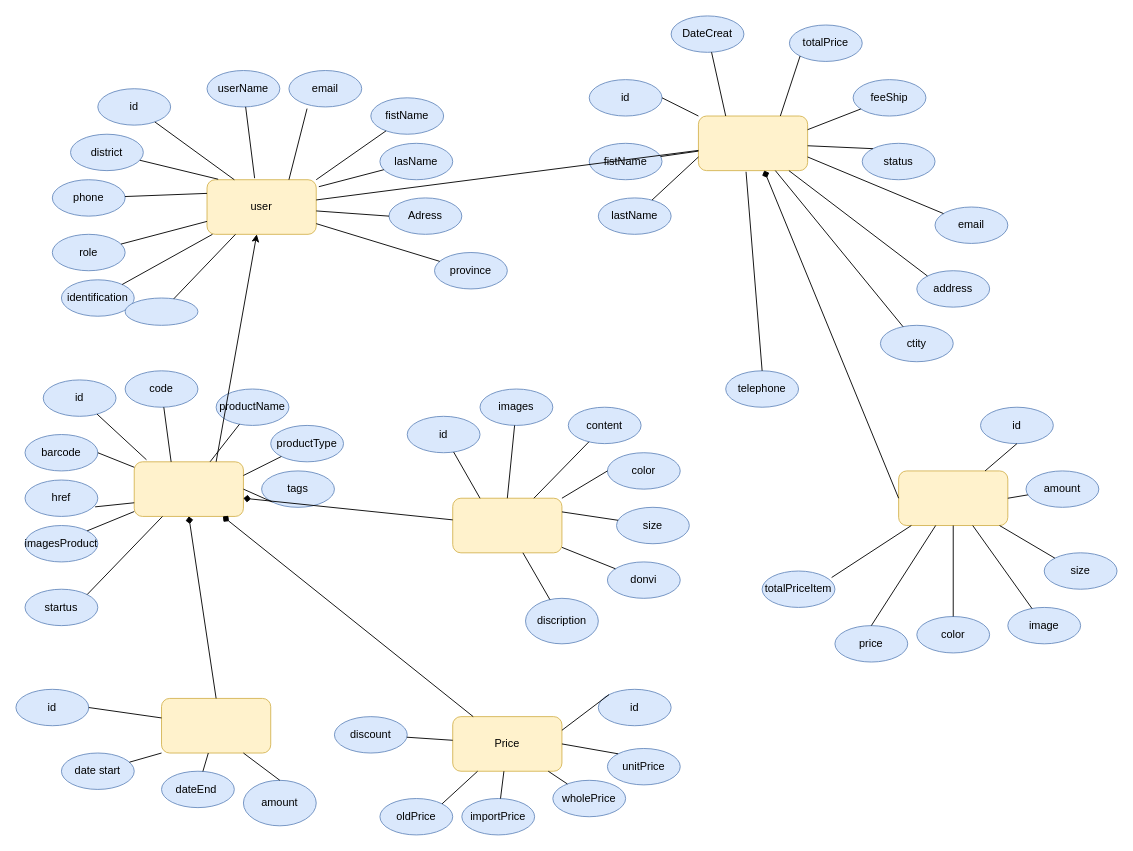
The diagram is 1133 pixels wide and 851 high, and some of its shapes have lost their labels. Each missing label, with the centre of its shape:
Cart: the point at 753,143
CartItiem: the point at 953,498
pass: the point at 161,311
product: the point at 188,488
productDetail: the point at 507,525
Promotion: the point at 216,725
